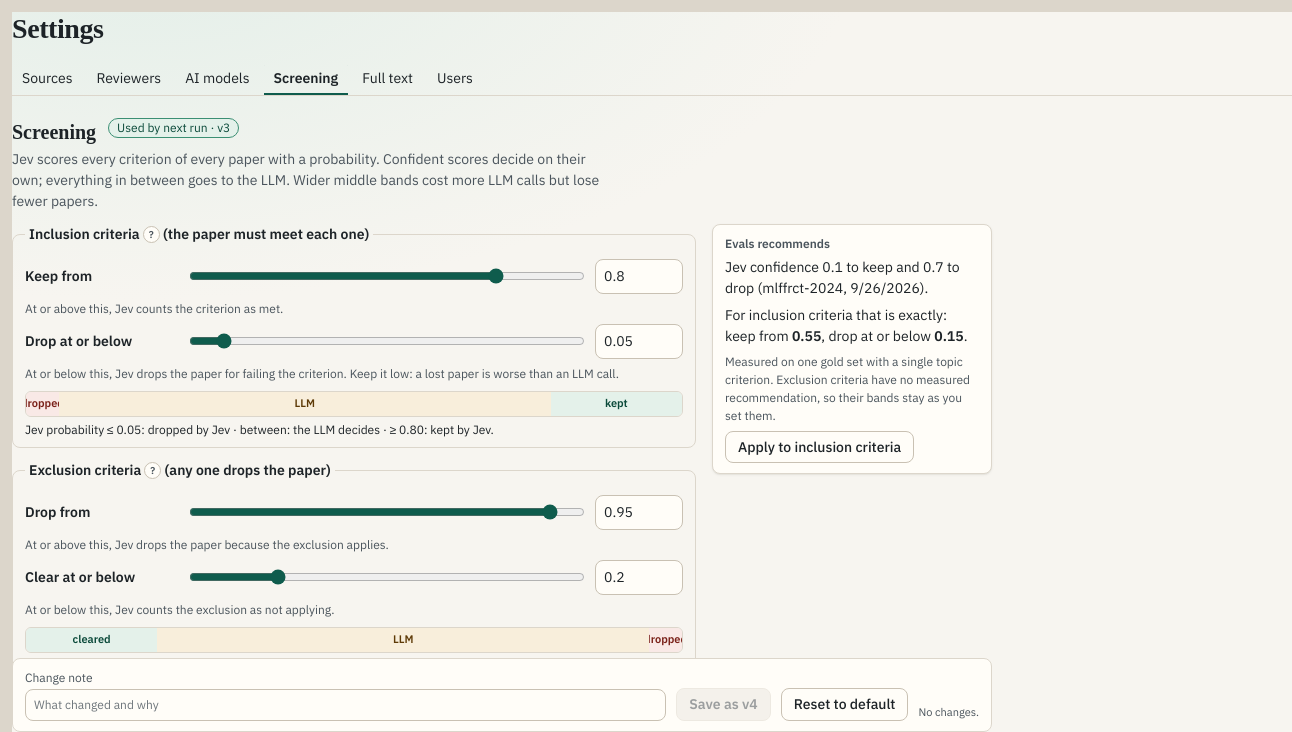
Test: Settings → Screening › maps the Evals recommendation exactly for inclusion criteria and applies it
The image size is (1292, 732).
Expected: the element named "Evals recommendation" shows "keep from 0.55, drop at or below 0.15", left=712, top=224, right=992, bottom=474
Expected: the element named "Evals recommendation" shows "Exclusion criteria have no measured recommendation", left=725, top=354, right=970, bottom=423
Click the button "Apply to inclusion criteria": x=820, y=447 left=725, top=431, right=914, bottom=463
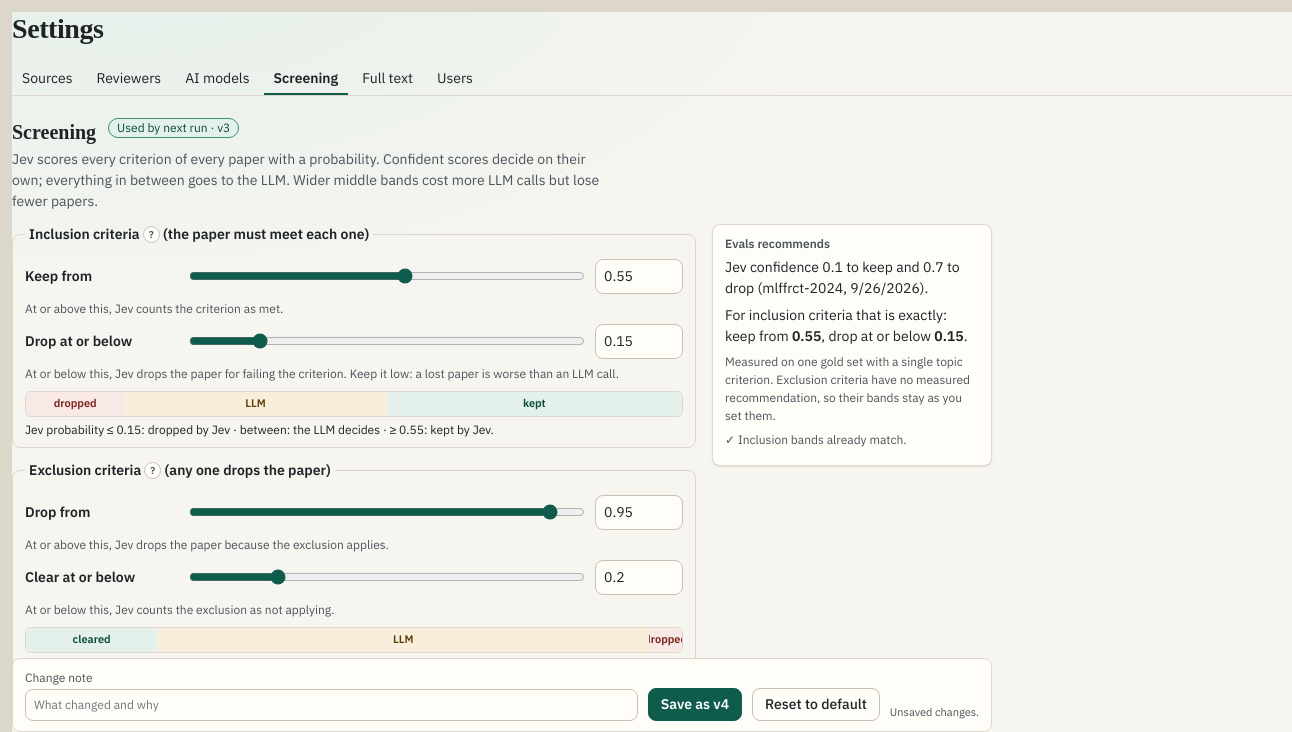
Expected: the number field labelled "Drop from" holds "0.95", left=595, top=495, right=683, bottom=530
Expected: the number field labelled "Keep from" holds "0.55", left=595, top=259, right=683, bottom=294
Expected: the number field labelled "Drop at or below" holds "0.15", left=595, top=324, right=683, bottom=359
